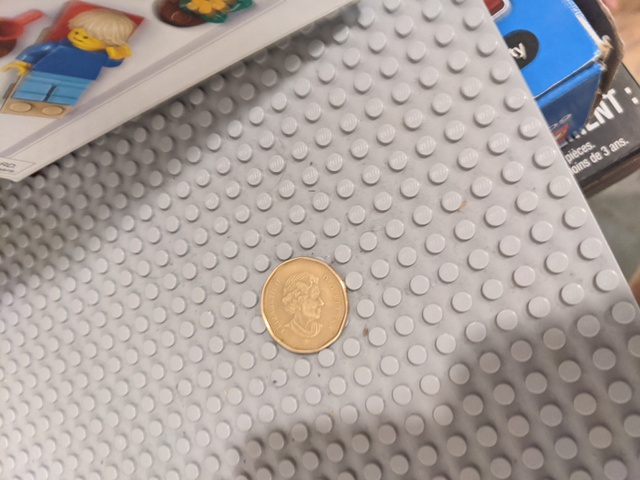loonie: (259, 258, 355, 356)
